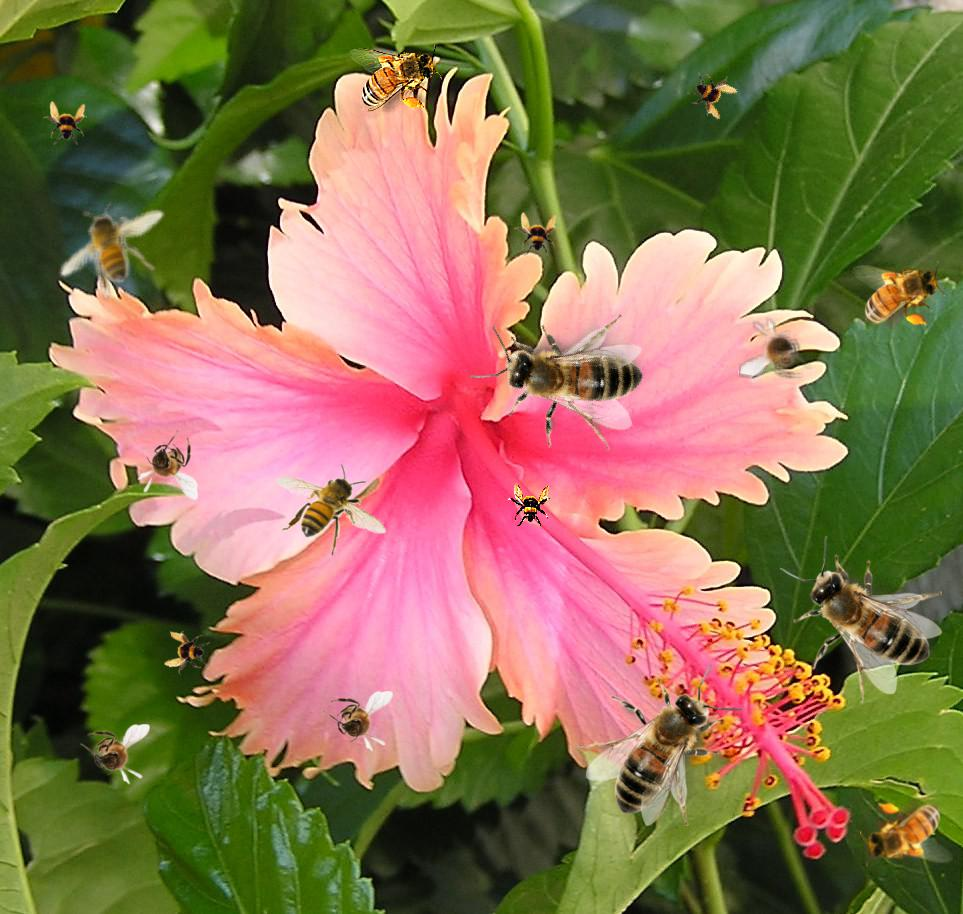Bee: (453, 265, 678, 493), (577, 664, 744, 826), (780, 536, 942, 703), (45, 173, 186, 319), (276, 463, 387, 557), (860, 799, 953, 867), (349, 44, 442, 112), (852, 261, 945, 329), (737, 314, 818, 388), (137, 430, 198, 500), (80, 724, 150, 785), (323, 691, 393, 752), (682, 63, 742, 123), (163, 629, 211, 677), (514, 212, 558, 256), (43, 101, 87, 145), (507, 483, 551, 527)
